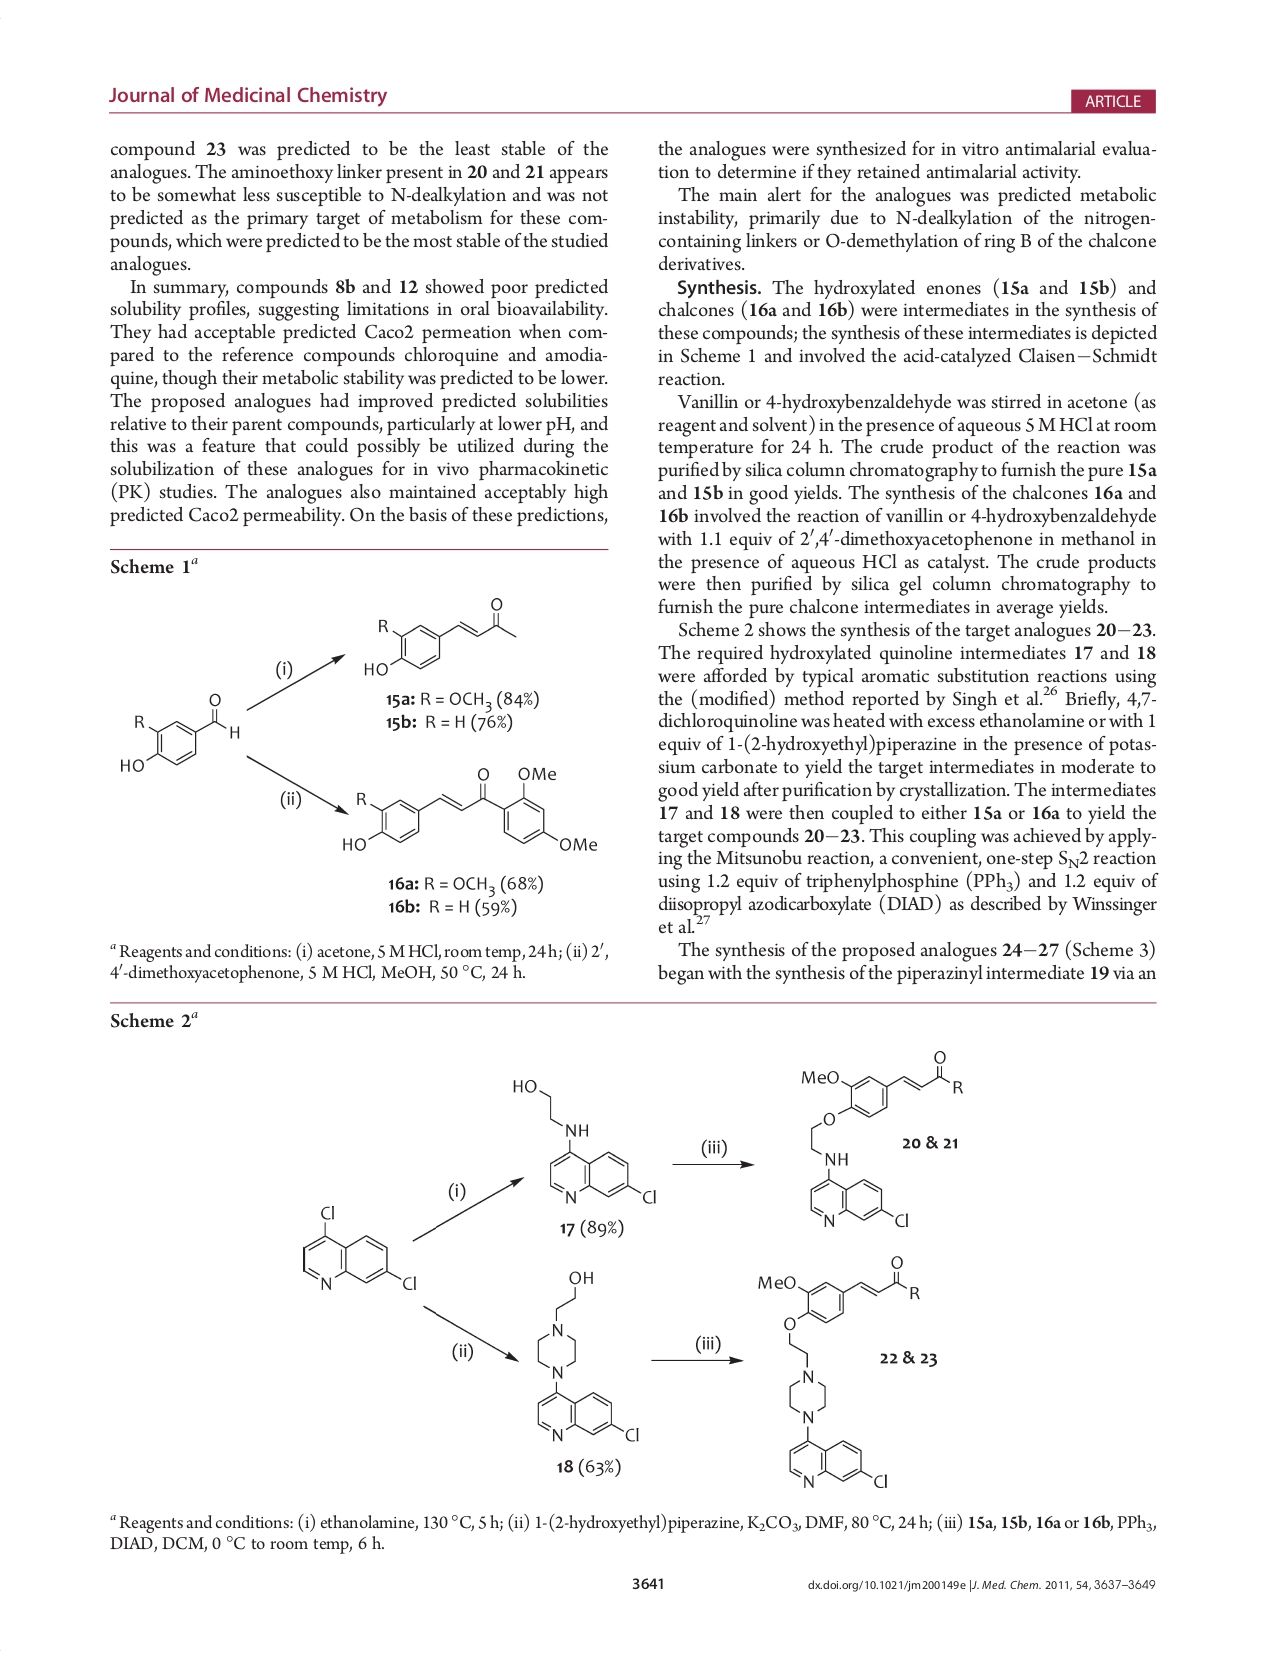exist_molecular: (755, 1251, 923, 1492), (799, 1051, 965, 1235), (342, 762, 598, 860), (533, 1262, 652, 1450), (511, 1073, 666, 1205), (360, 594, 519, 680), (297, 1201, 422, 1297), (116, 686, 245, 773)
